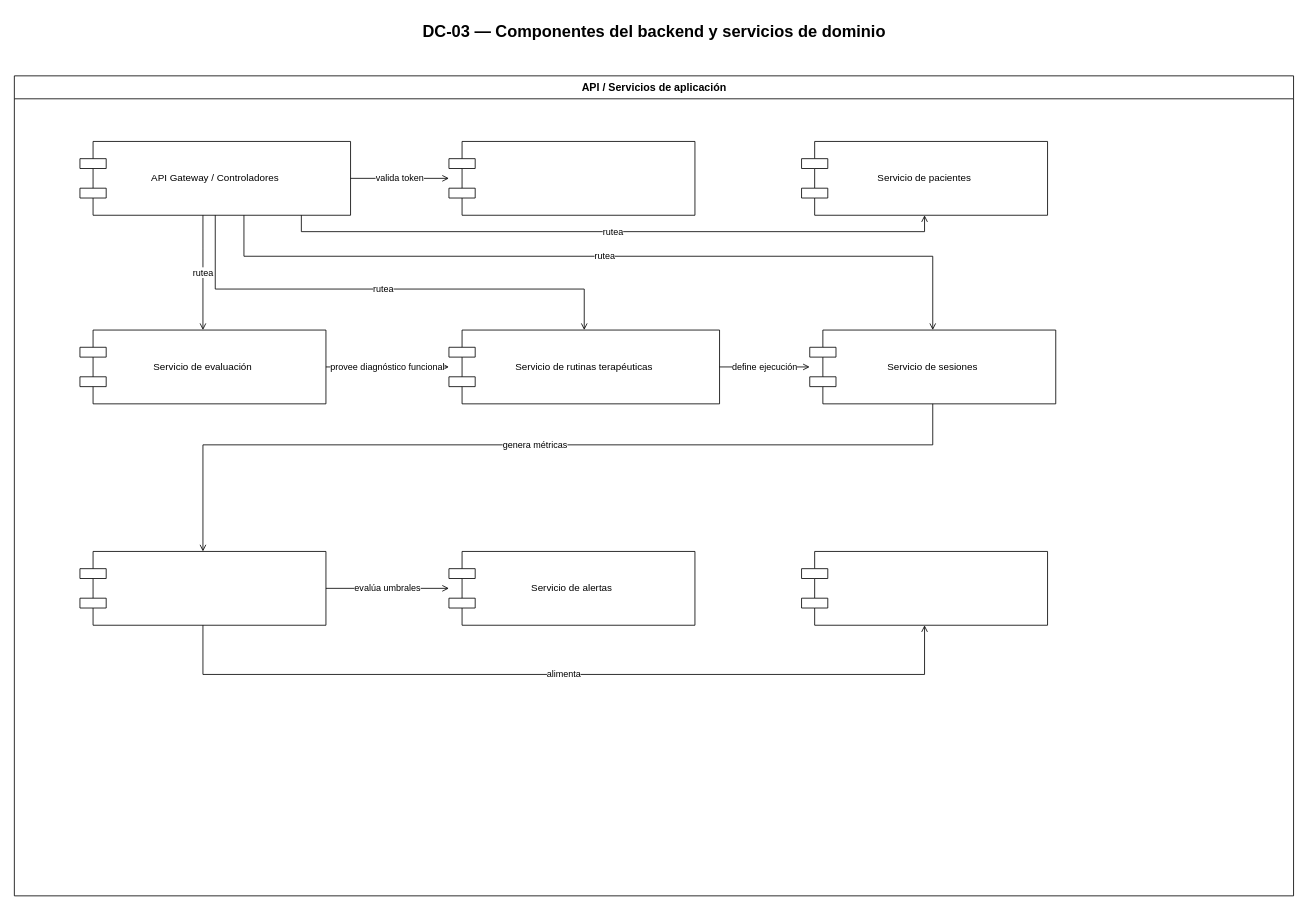
Some shapes in this 1308 by 910 pixel diagram are drawn without their labels. The shapes that lost their labels are listed below. From the top down, each one's centre as x and y in pixels, then its label:
[571,178]: Servicio de autenticación
[202,588]: Servicio de seguimiento
[924,588]: Servicio de reportes
